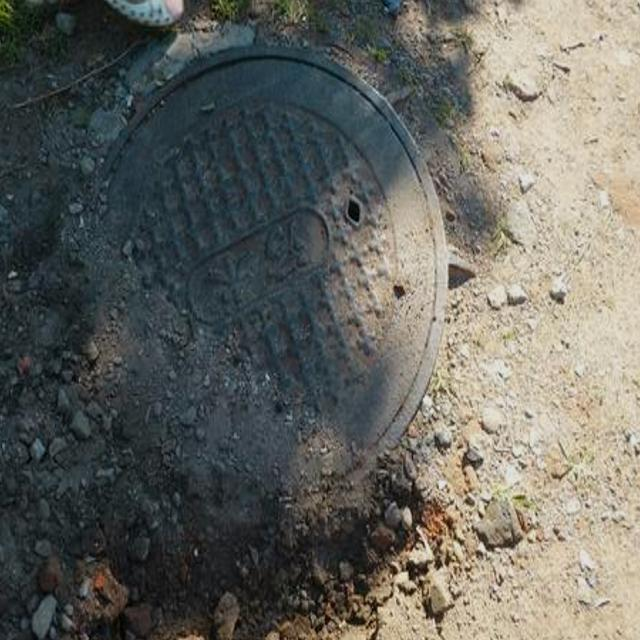circle: (0, 30, 541, 586)
